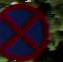No Stopping: (0, 2, 53, 59)
